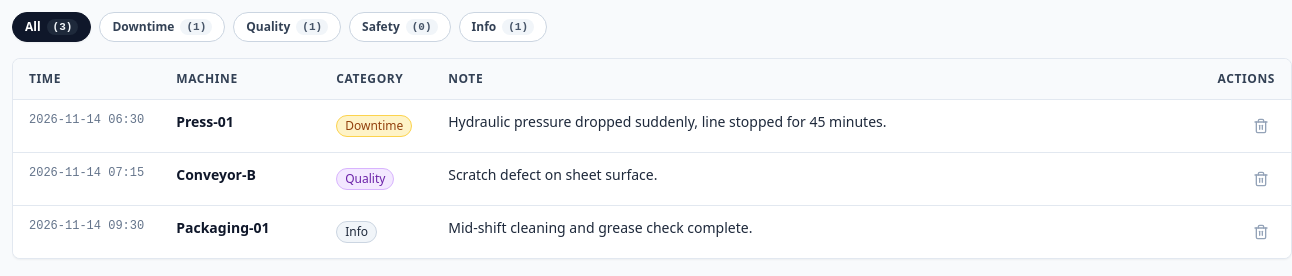
Test: EventList Component › Empty States › displays filtered empty state with "Show all events" button when no events match category
This screenshot has width=1292, height=276.
Expected: the text "Press-01" is shown, [160, 100, 320, 152]
# Click "Safety (0)"
Click the button "Safety (0)": [400, 27] box [349, 12, 451, 42]
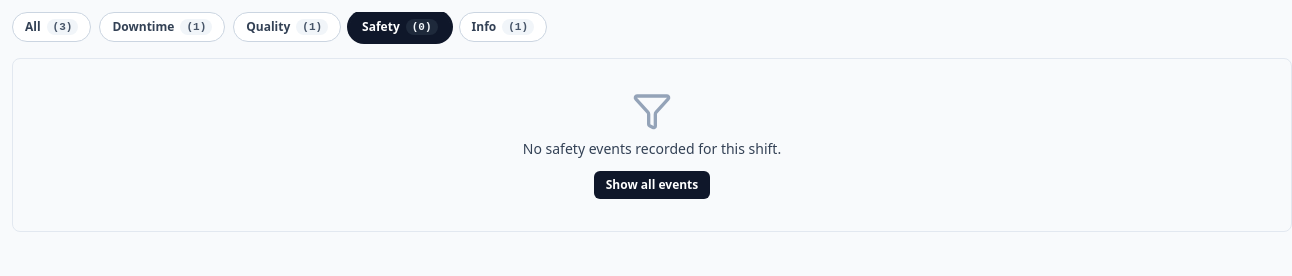
Expected: the text "No safety events recorded for this shift." is shown, [523, 139, 781, 159]
Expected: the button "Show all events" is shown
# Clicking "Show all events" resets filter to All
Click the button "Show all events": [652, 185] box [594, 171, 710, 199]
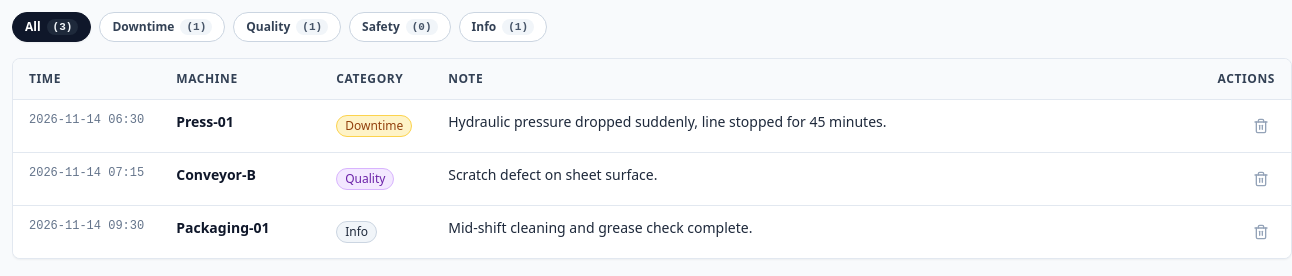
Expected: the text "Press-01" is shown, [160, 100, 320, 152]
